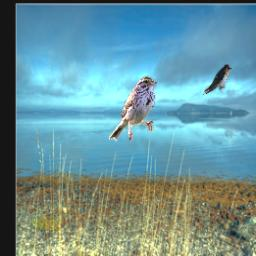Sparrow: (109, 77, 158, 143)
Swallow: (203, 65, 232, 96)
